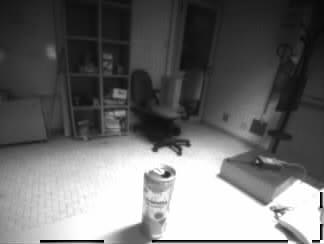Tin can: (142, 164, 171, 237)
